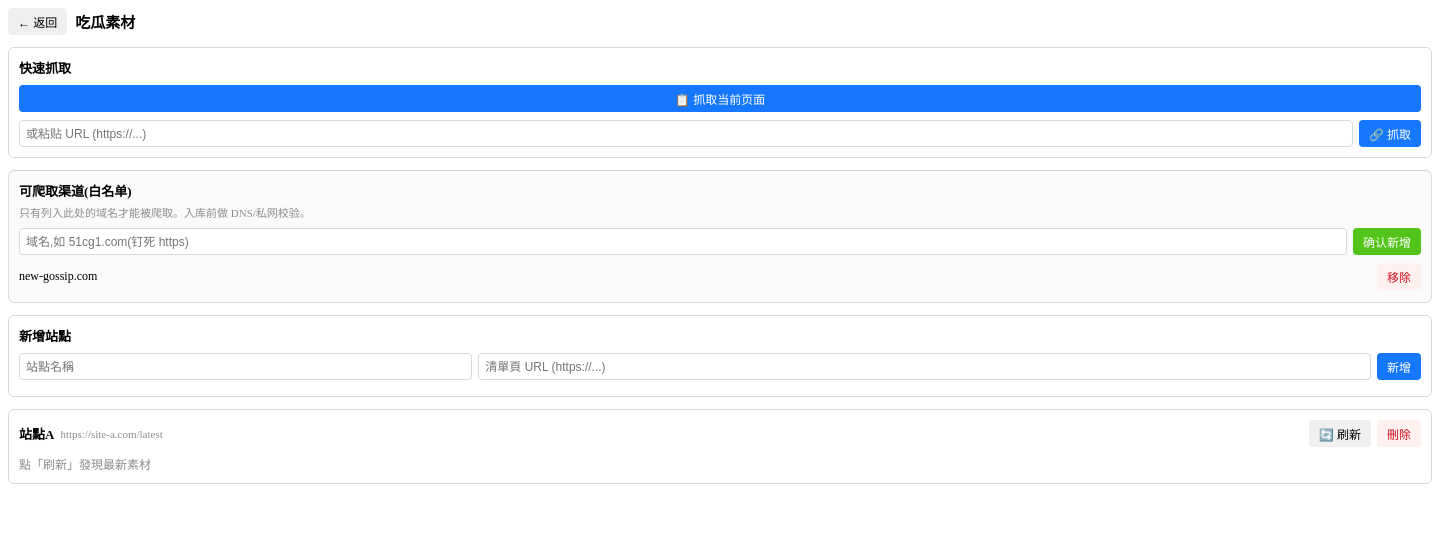
Test: GossipView › discover API 返回錯誤 → 顯示錯誤橫幅，清單保留上次結果
The image size is (1440, 543).
expect the text "站點A" is shown: met, box [19,424,54,443]
//  第一次刷新成功
Click the button "🔄 刷新" at x=1340, y=434, box [1309,420,1371,447]
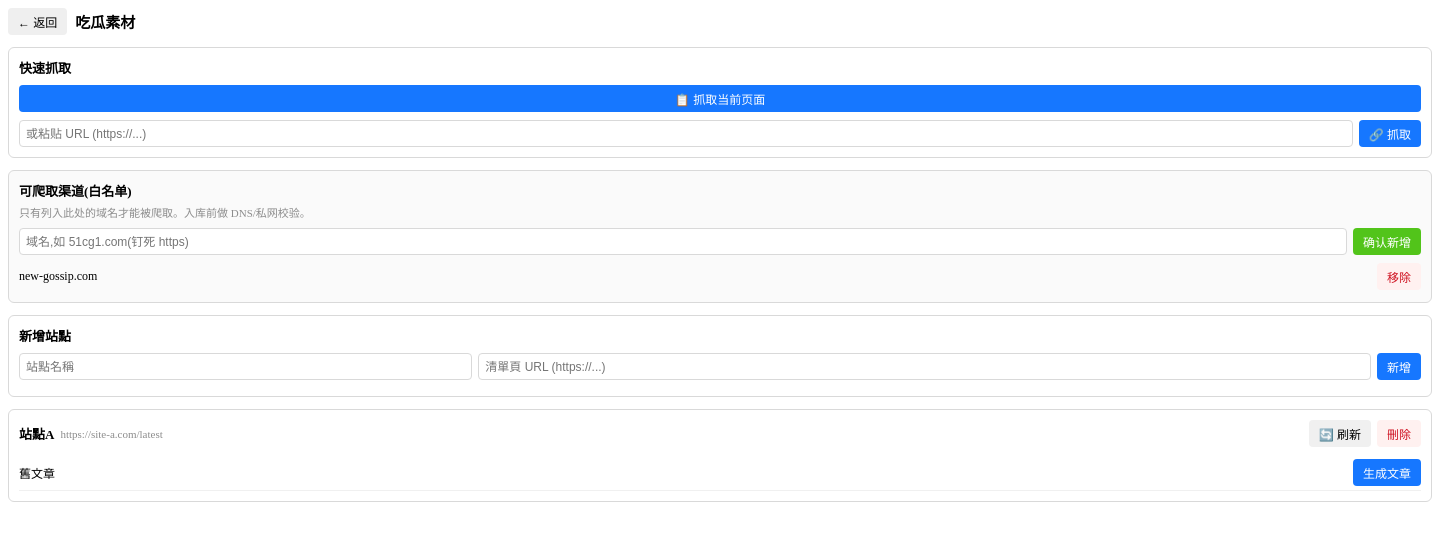
expect the text "舊文章" is shown: met, box [19,466,55,480]
//  第二次刷新失敗
Click the button "🔄 刷新" at x=1340, y=434, box [1309,420,1371,447]
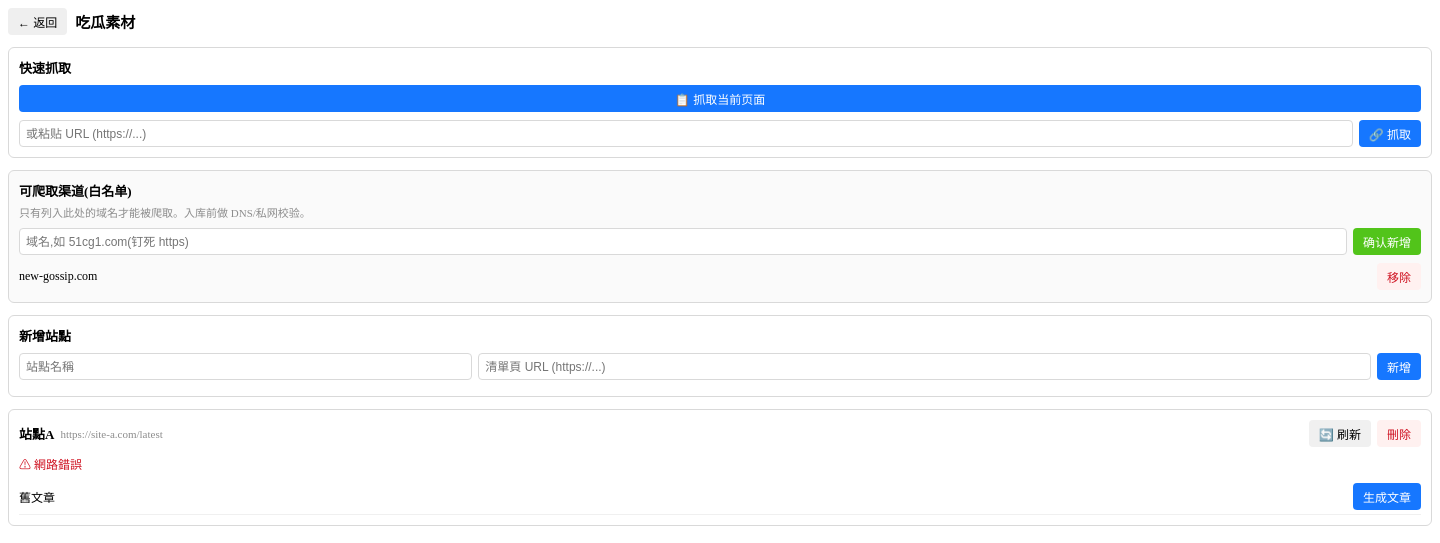
expect the text "舊文章" is shown: met, box [19,490,55,504]
expect the text "⚠ 網路錯誤" is shown: met, box [19,458,82,472]
